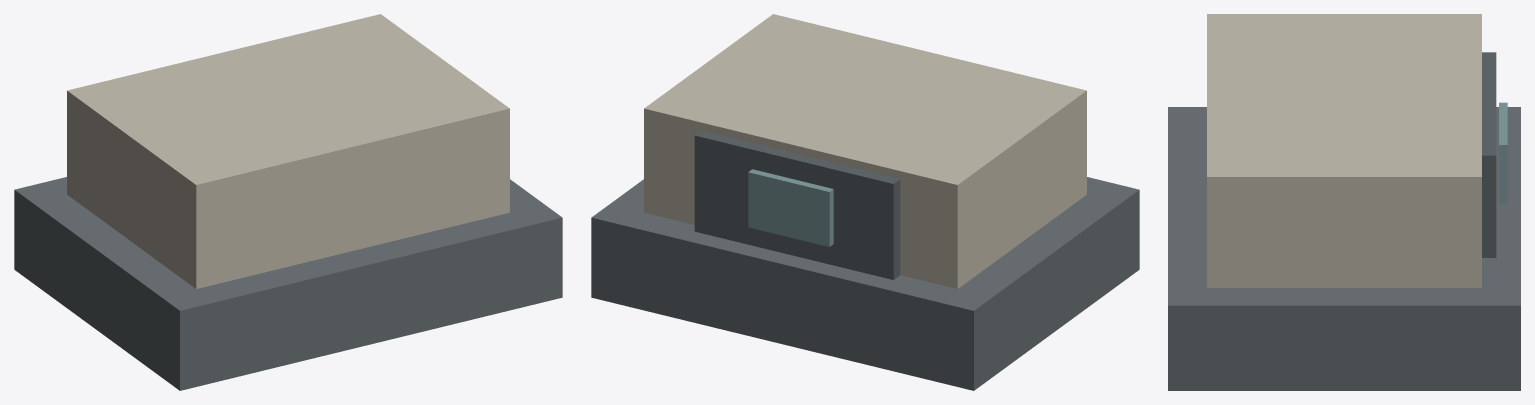
The model's file is iz3_environment_rubble_01.glb.
The picture shows the model from 3 angles, left to right: view 1: azimuth 30°, elevation 25°; view 2: azimuth 150°, elevation 25°; view 3: azimuth 270°, elevation 25°; orthographic projection. The views are drawn at different scales.
Visible parts, largest first — view 1: cabinet, base; view 2: cabinet, base, panel, display; view 3: cabinet, base, panel, display.
Part boxes in pixels (x1,y1,x2,y2): cabinet: (67,14,509,288); base: (14,177,562,390); cabinet: (644,14,1086,288); base: (591,177,1139,390); panel: (694,130,900,279); display: (748,169,833,246); cabinet: (1207,14,1481,287); base: (1168,107,1520,390); panel: (1482,52,1496,257); display: (1499,102,1507,203).
Bounding box in the file's own units: 1.6 × 0.736 × 1.2.
